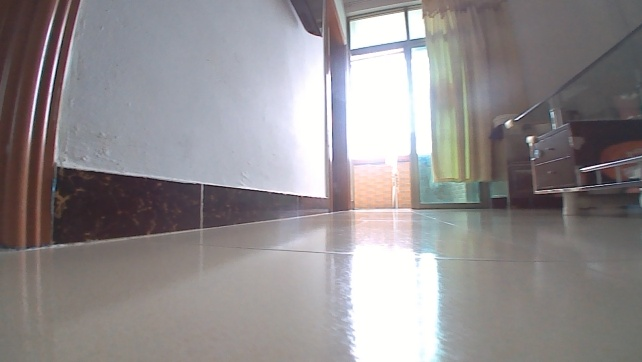tea_table1: (500, 23, 641, 218)
